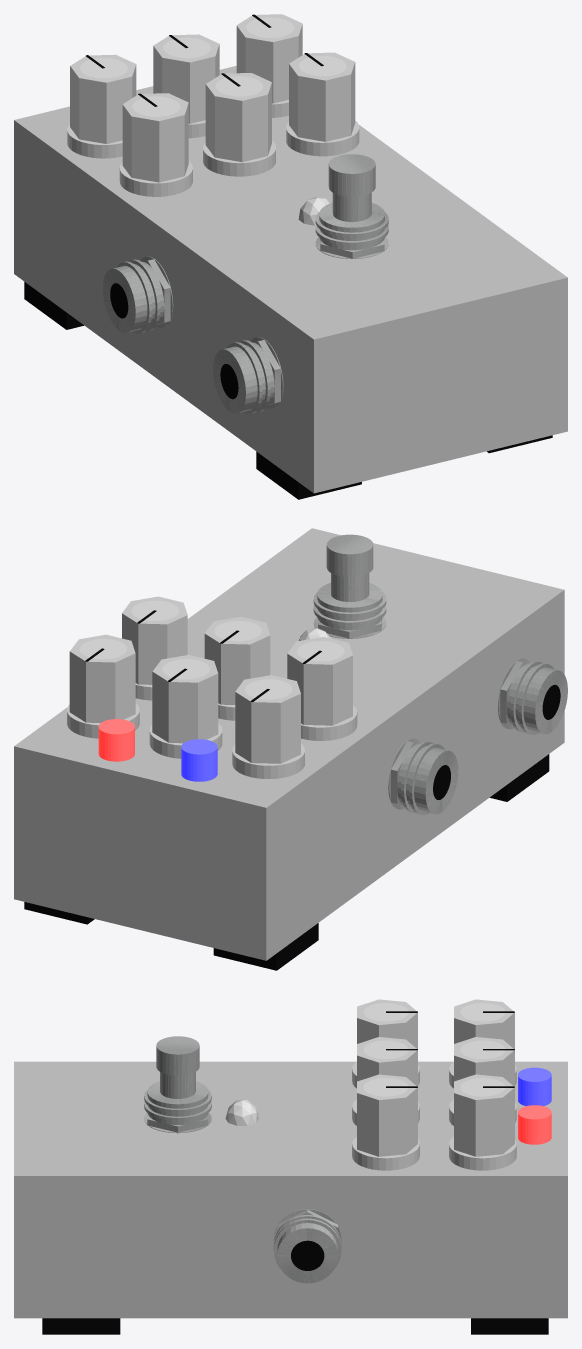
The model's file is MXR Poly Blue Octave Pedal.fbx.
The picture shows the model from 3 angles, top to bottom: view 1: azimuth 30°, elevation 25°; view 2: azimuth 150°, elevation 25°; view 3: azimuth 270°, elevation 25°; orthographic projection. The views are drawn at different scales.
Parts seen in each view (by area): view 1: Body, Knob Oct+2, Knob Mod, Knob Oct+1, Knob Dry, Toggle, Knob Sub-1, EXP Jack, Out Jack, Knob Sub-2, Stud Bottom Left, Stud Top Left; view 2: Body, Knob Dry, Knob Sub-1, Knob Sub-2, Knob Mod, Toggle, Knob Oct+1, Out Jack, Knob Oct+2, EXP Jack, Button Fuzz, Button Mono (+2 smaller); view 3: Body, Knob Sub-2, Knob Oct+2, Toggle, In Jack, Knob Dry, Knob Mod, Knob Oct+1, Knob Sub-1, Stub Bottom Right, Stud Top Right, Button Mono (+2 smaller).
Part boxes in pixels (box(x1,y1,x2,y2)): Body: box(14, 66, 567, 493); Knob Oct+2: box(286, 52, 359, 156); Knob Mod: box(119, 93, 192, 196); Knob Oct+1: box(203, 73, 275, 176); Knob Dry: box(67, 54, 136, 158); Toggle: box(315, 154, 388, 258); Knob Sub-1: box(153, 34, 219, 138); EXP Jack: box(213, 337, 283, 414); Out Jack: box(102, 256, 173, 333); Knob Sub-2: box(236, 14, 302, 117); Stud Bottom Left: box(256, 451, 361, 499); Stud Top Left: box(24, 282, 83, 329); Body: box(14, 528, 564, 960); Knob Dry: box(232, 675, 304, 778); Knob Sub-1: box(149, 655, 222, 758); Knob Sub-2: box(67, 634, 139, 738); Knob Mod: box(287, 637, 357, 740); Toggle: box(313, 534, 386, 638); Knob Oct+1: box(204, 616, 270, 720); Out Jack: box(388, 738, 458, 815); Knob Oct+2: box(122, 596, 187, 700); EXP Jack: box(498, 658, 567, 734); Button Fuzz: box(181, 739, 217, 781); Button Mono: box(98, 719, 134, 761); Body: box(14, 1061, 567, 1318); Knob Sub-2: box(449, 1074, 516, 1170); Knob Oct+2: box(352, 1074, 419, 1170); Toggle: box(144, 1036, 211, 1133); In Jack: box(273, 1209, 341, 1283); Knob Dry: box(449, 999, 516, 1088); Knob Mod: box(352, 999, 419, 1088); Knob Oct+1: box(352, 1037, 419, 1125); Knob Sub-1: box(449, 1037, 516, 1125); Stub Bottom Right: box(42, 1318, 120, 1334); Stud Top Right: box(471, 1318, 548, 1334); Button Mono: box(518, 1105, 551, 1144).
Bounding box in the file's own units: 256 × 189 × 409.
